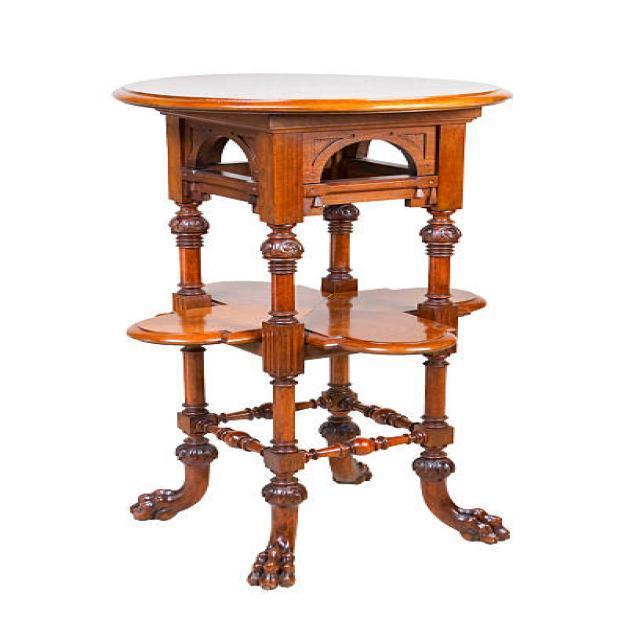table: (110, 72, 514, 590)
